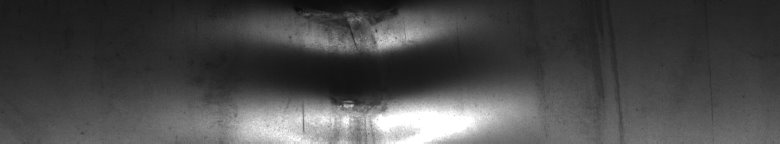ke: (282, 4, 445, 136)
